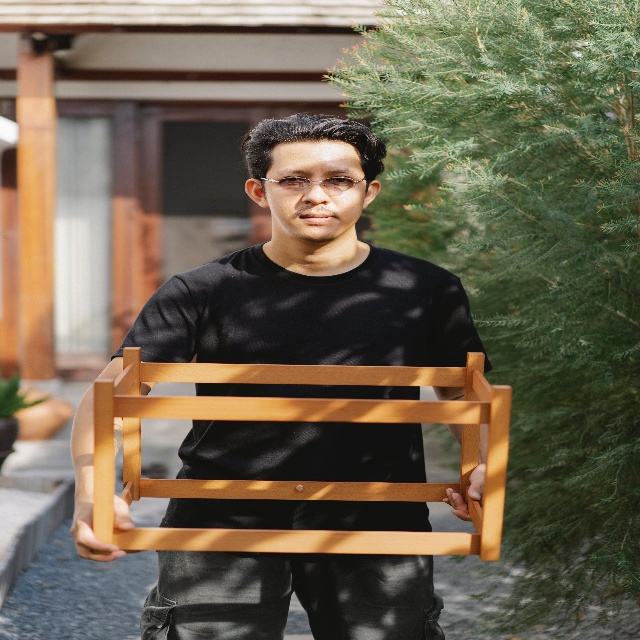Gafas: (259, 175, 367, 192)
Sin_guantes: (70, 486, 136, 563), (442, 462, 485, 522)
